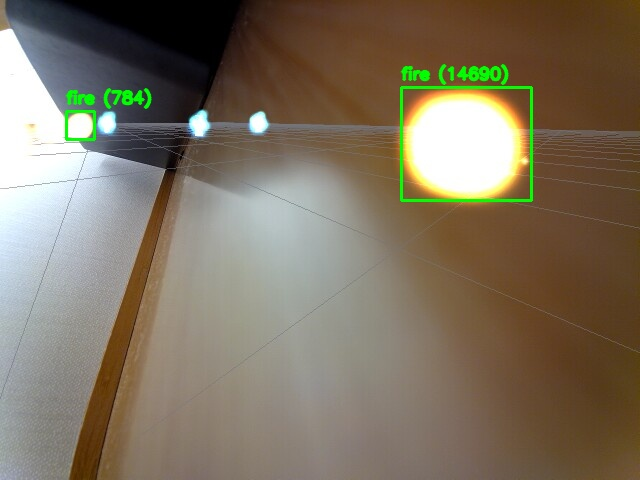fire: (401, 87, 531, 200), (66, 111, 94, 139)
